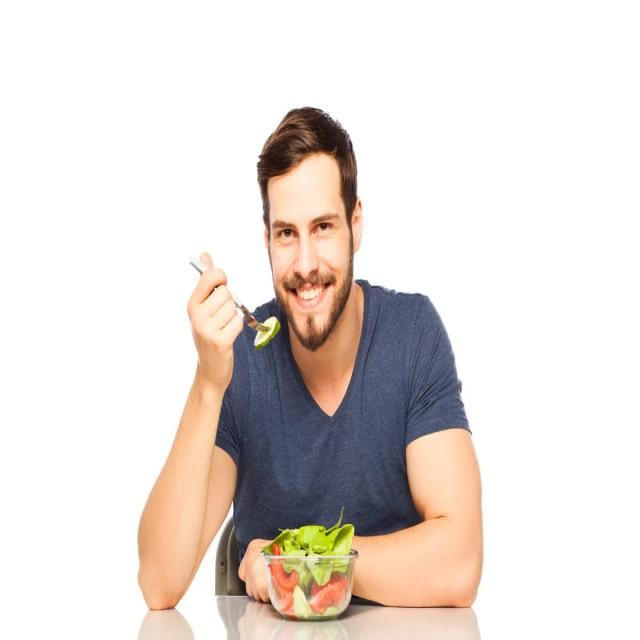human: (135, 101, 486, 640)
